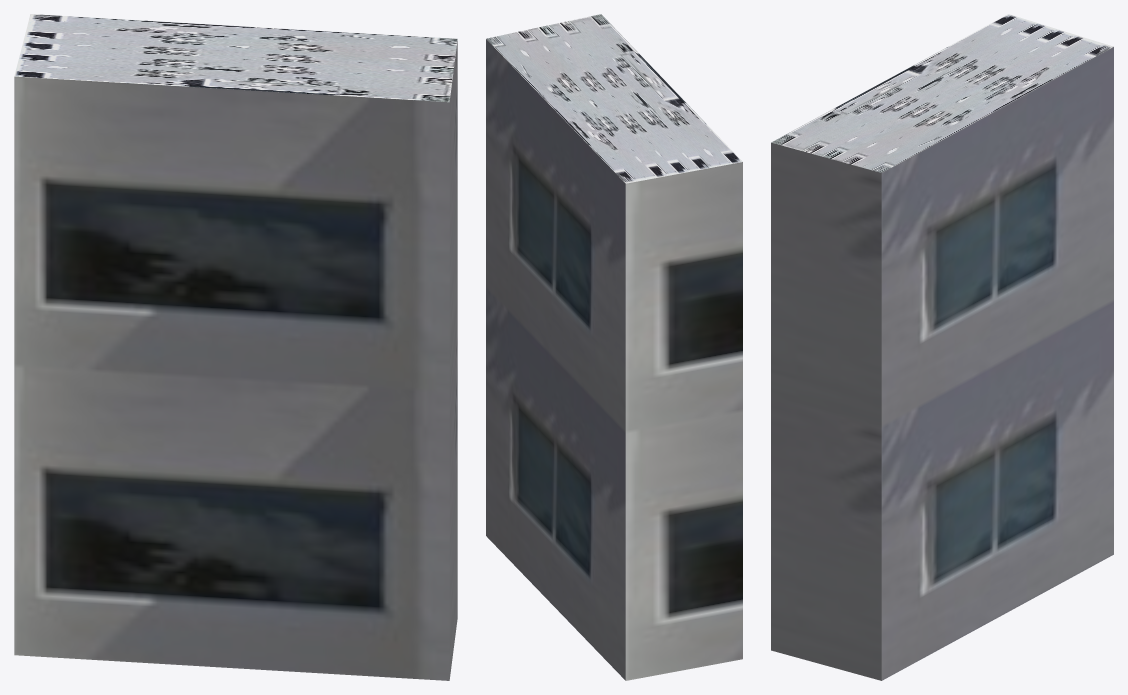
Rendered from ResTex__5049.fbx.
3 views of the same model, side by side, from view 1: azimuth 30°, elevation 25°; view 2: azimuth 150°, elevation 25°; view 3: azimuth 270°, elevation 25° (orthographic). The views are drawn at different scales.
Parts seen in each view (by area): view 1: CityEngineMaterial_10_m, CityEngineMaterial_4_m; view 2: CityEngineMaterial_10_m, CityEngineMaterial_4_m; view 3: CityEngineMaterial_10_m, CityEngineMaterial_4_m.
Part boxes in pixels (box(x1,y1,x2,y2)): CityEngineMaterial_10_m: box(14, 41, 457, 680); CityEngineMaterial_4_m: box(14, 14, 457, 102); CityEngineMaterial_10_m: box(486, 39, 742, 680); CityEngineMaterial_4_m: box(486, 14, 742, 183); CityEngineMaterial_10_m: box(771, 47, 1113, 680); CityEngineMaterial_4_m: box(771, 14, 1113, 172).
Bounding box in the file's own units: 4.03 × 6 × 3.67.
2 materials, 2 textured.
